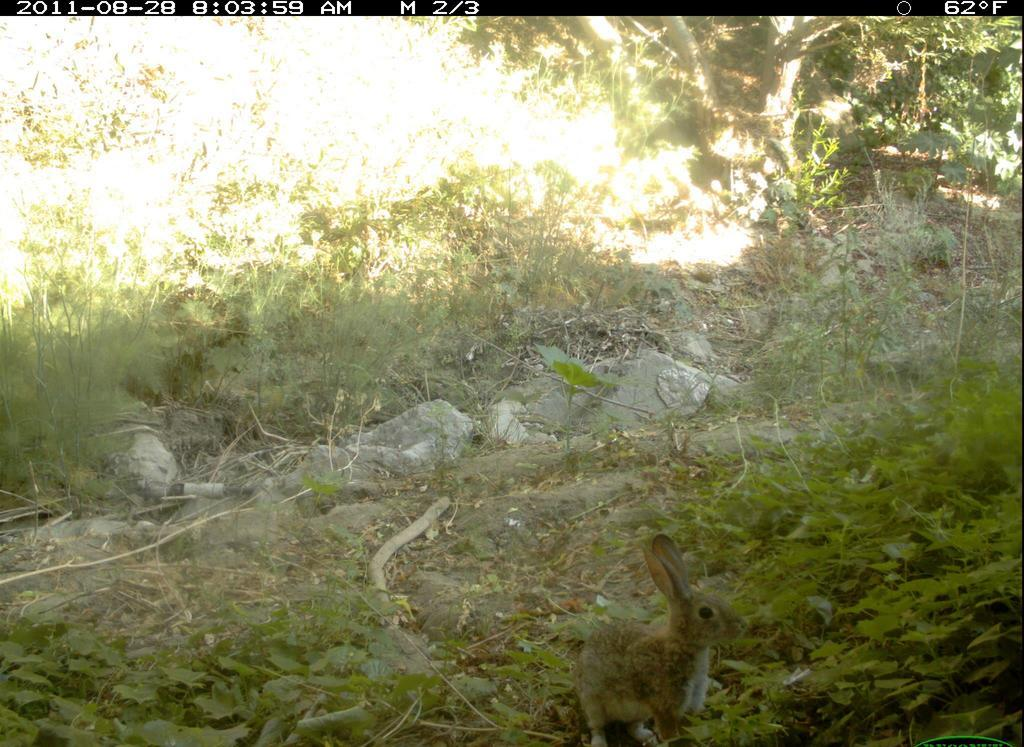rabbit: (566, 534, 763, 747)
